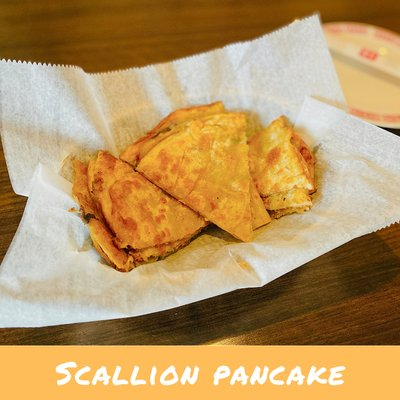soup: (66, 150, 210, 272)
